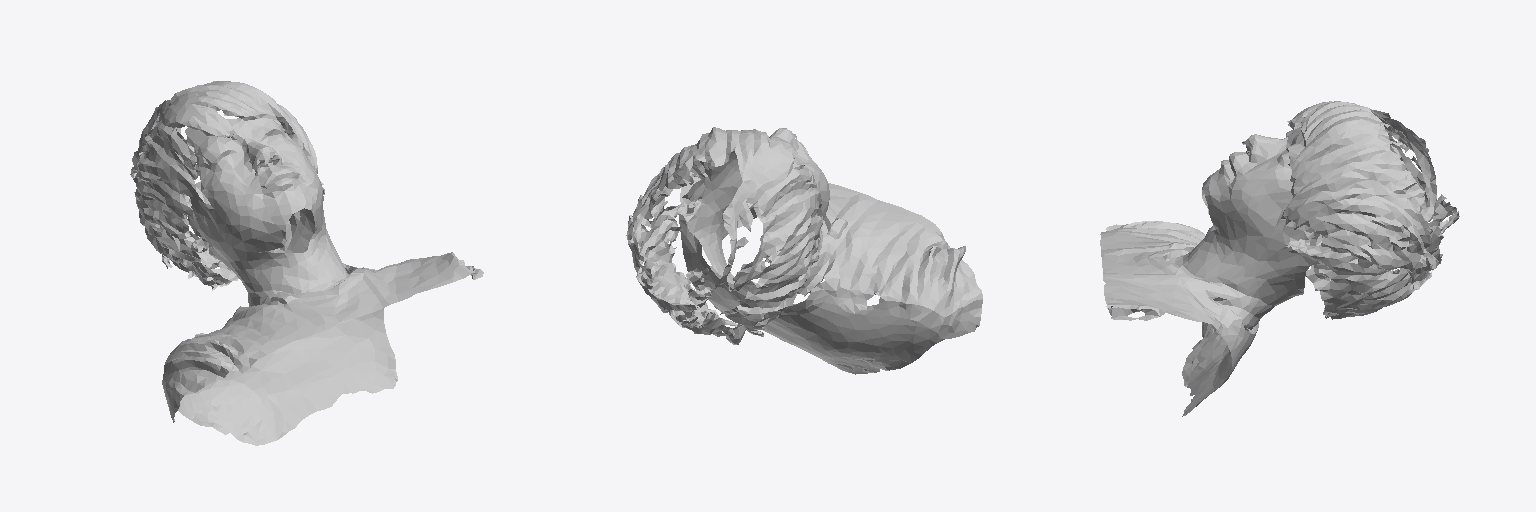
File: LegoBricks3.obj
The picture shows the model from 3 angles: view 1: azimuth 30°, elevation 25°; view 2: azimuth 150°, elevation 25°; view 3: azimuth 270°, elevation 25°; orthographic projection.
Parts seen in each view (by area): view 1: Yasu7000; view 2: Yasu7000; view 3: Yasu7000.
Part boxes in pixels (x1,y1,x2,y2): Yasu7000: (130, 81, 483, 445); Yasu7000: (626, 127, 982, 374); Yasu7000: (1100, 101, 1459, 416).
Size of the model in its own units: 2.57 by 2.4 by 2.72.